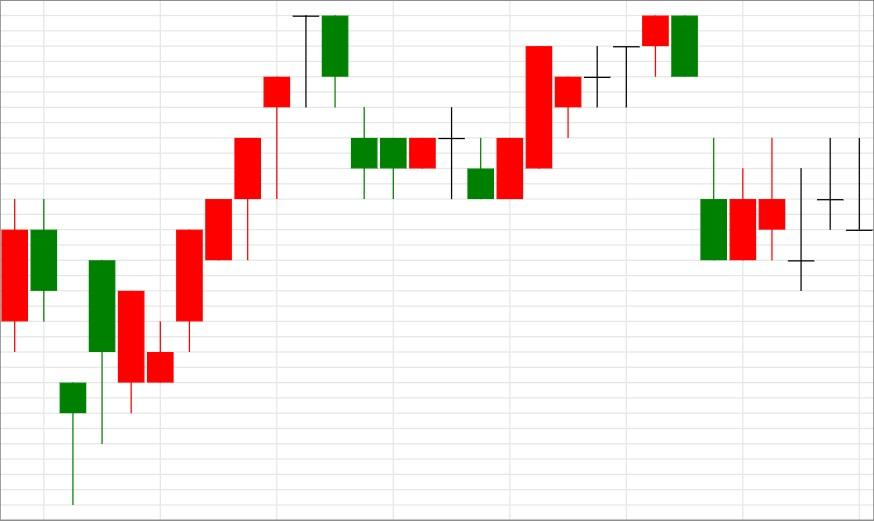bearish_engulfing_fall: (467, 15, 698, 199)
bullish_engulfing_rise: (292, 14, 524, 199)
hammer_rise: (0, 199, 87, 505)
